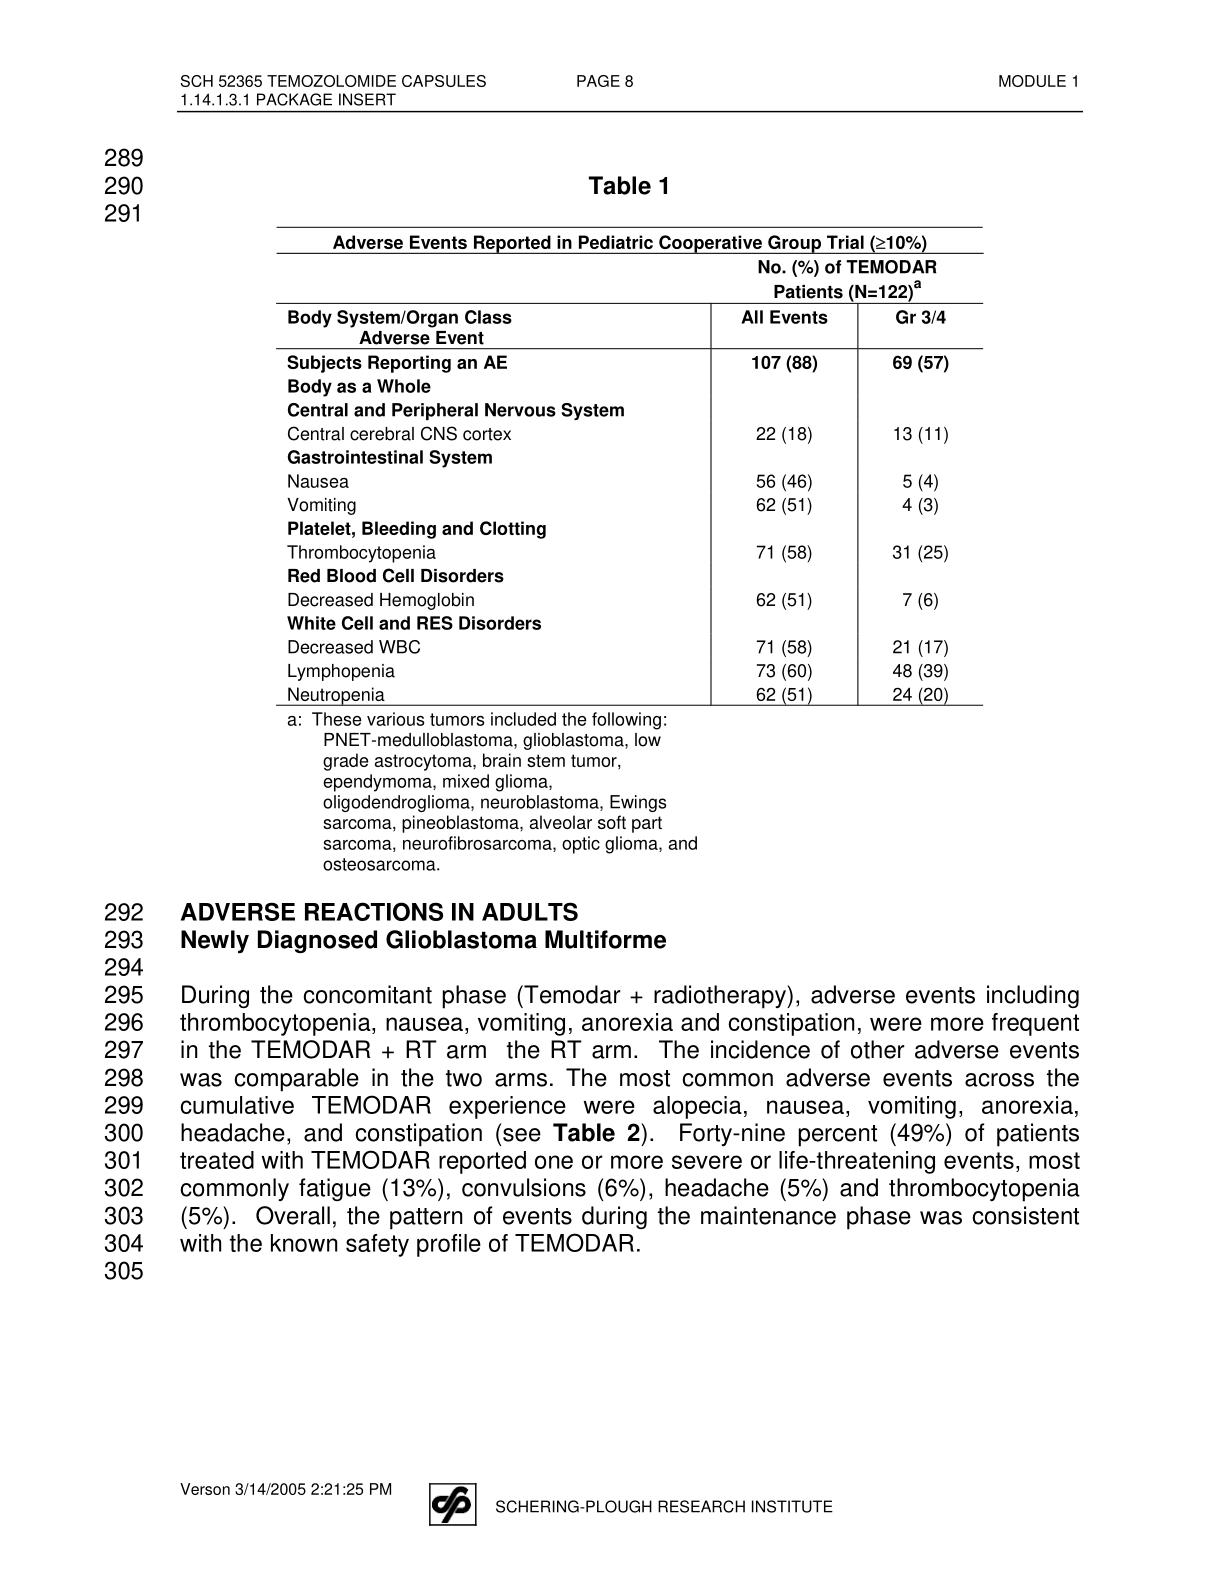partial_lined_merged_cells: (274, 222, 984, 706)
